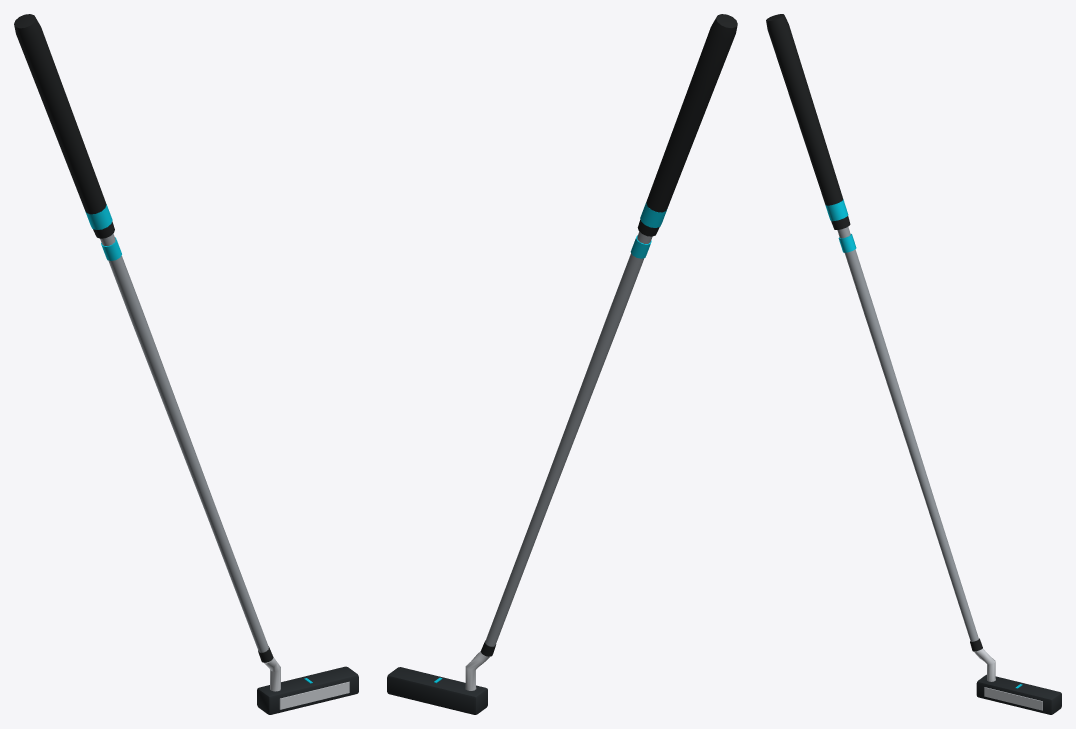
Rendered from Display_Club_Putter.fbx.
3 views of the same model, side by side, from view 1: azimuth 30°, elevation 25°; view 2: azimuth 150°, elevation 25°; view 3: azimuth 330°, elevation 25° (orthographic). The views are drawn at different scales.
Parts seen in each view (by area): view 1: Display_Club_Putter; view 2: Display_Club_Putter; view 3: Display_Club_Putter.
Part boxes in pixels (x1=…): Display_Club_Putter: x1=14, y1=14, x2=358, y2=714; Display_Club_Putter: x1=387, y1=14, x2=737, y2=714; Display_Club_Putter: x1=766, y1=14, x2=1061, y2=714.
Size of the model in its own units: 0.3941 by 0.8318 by 0.0352.
